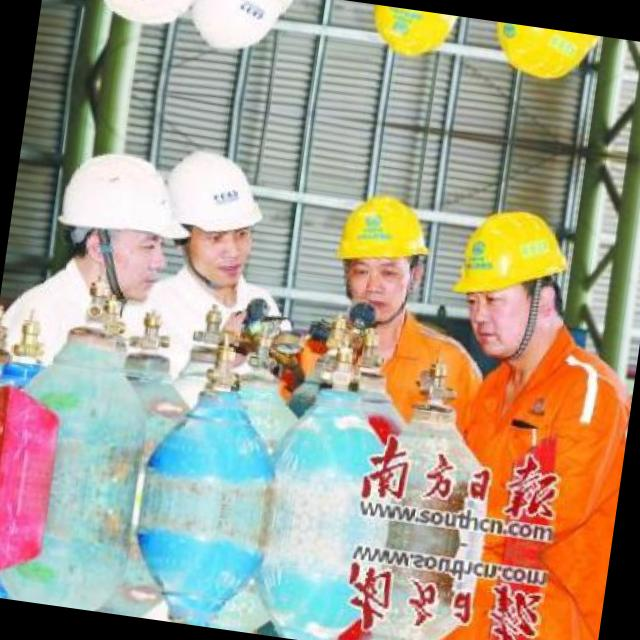helmet: (436, 190, 588, 370), (39, 139, 188, 306), (156, 138, 276, 292), (322, 178, 440, 324), (473, 20, 613, 100), (356, 4, 466, 76), (188, 0, 300, 67), (76, 0, 214, 40)
